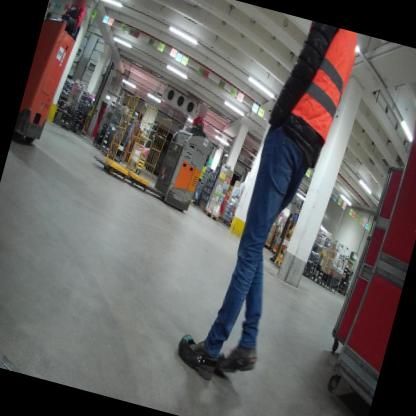pallet: (196, 202, 227, 224), (201, 207, 219, 222), (224, 219, 234, 229), (199, 204, 205, 213)
pallet_truck: (84, 103, 216, 216), (11, 6, 90, 155)
